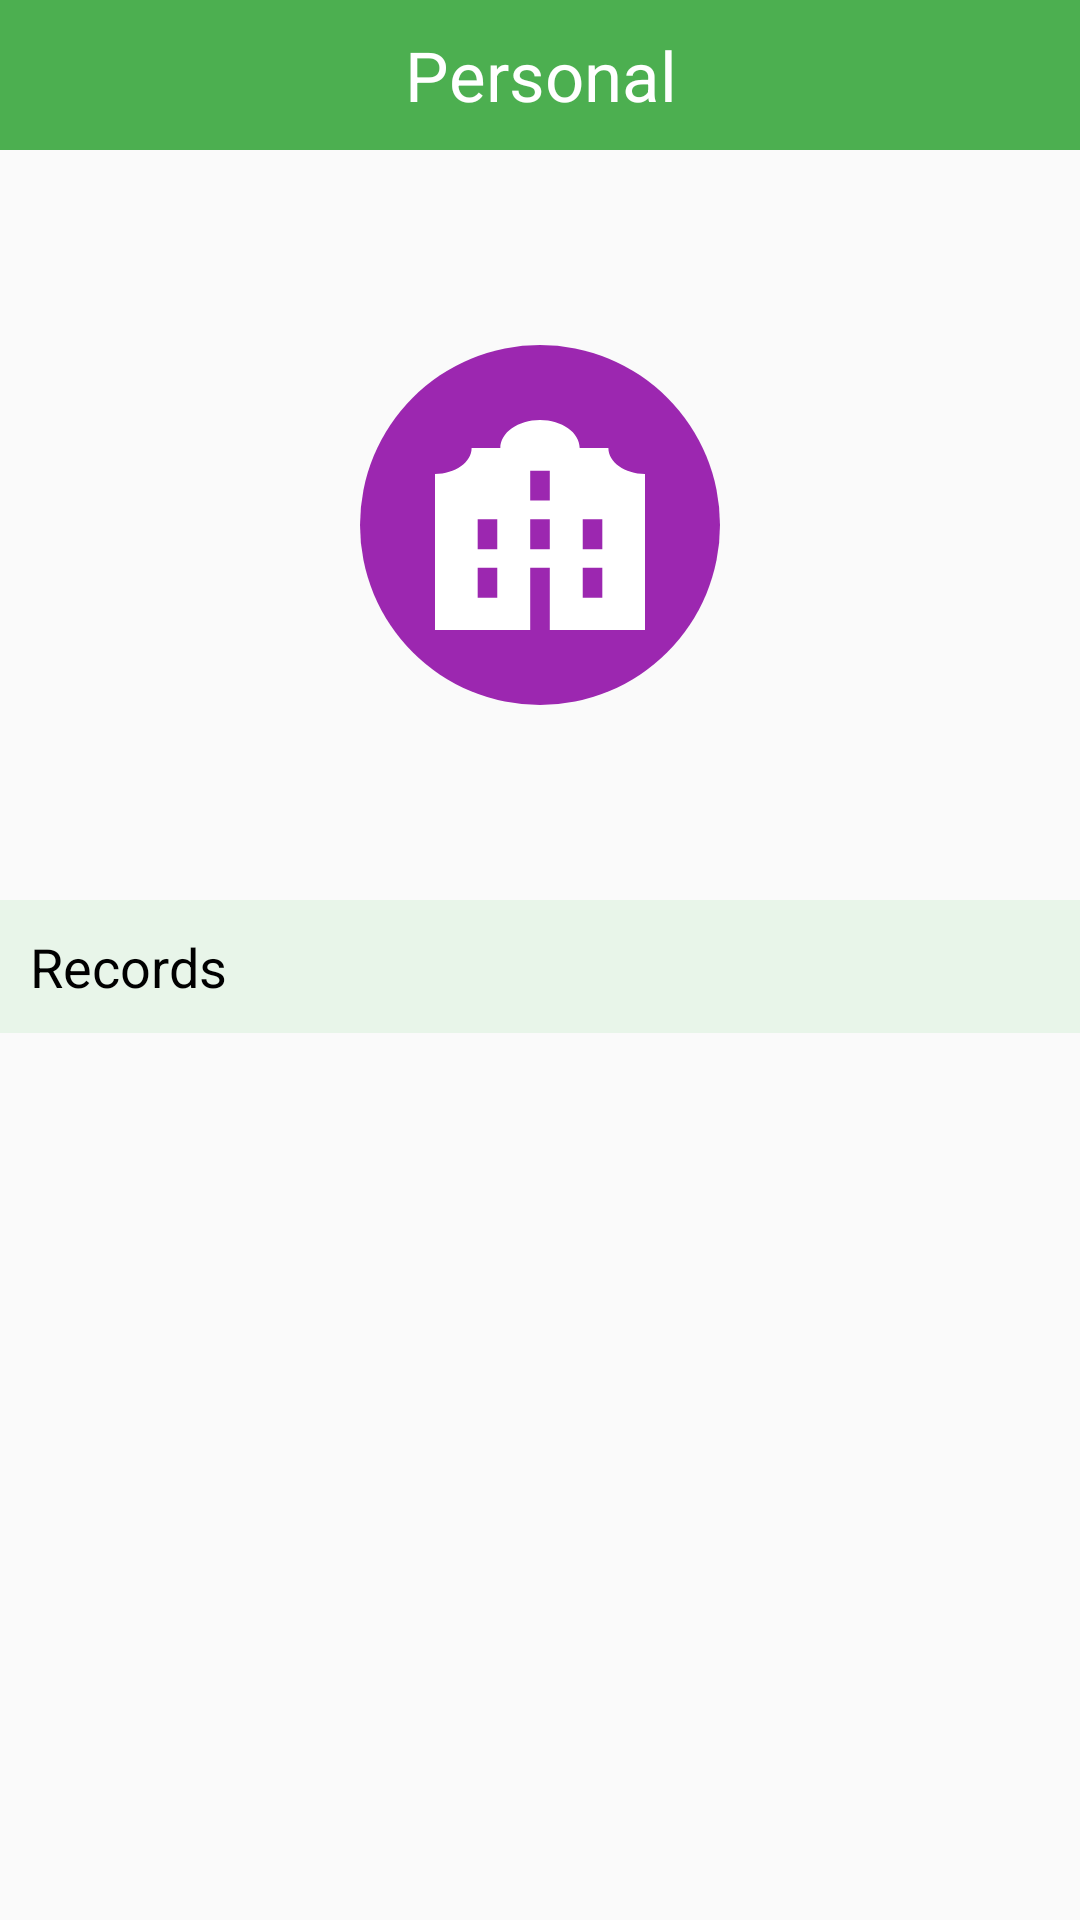

Icons on this 1080 × 1920 Android screen, each with its box as (x1, y1, x2, y2):
accomodation: (435, 420, 645, 630)
